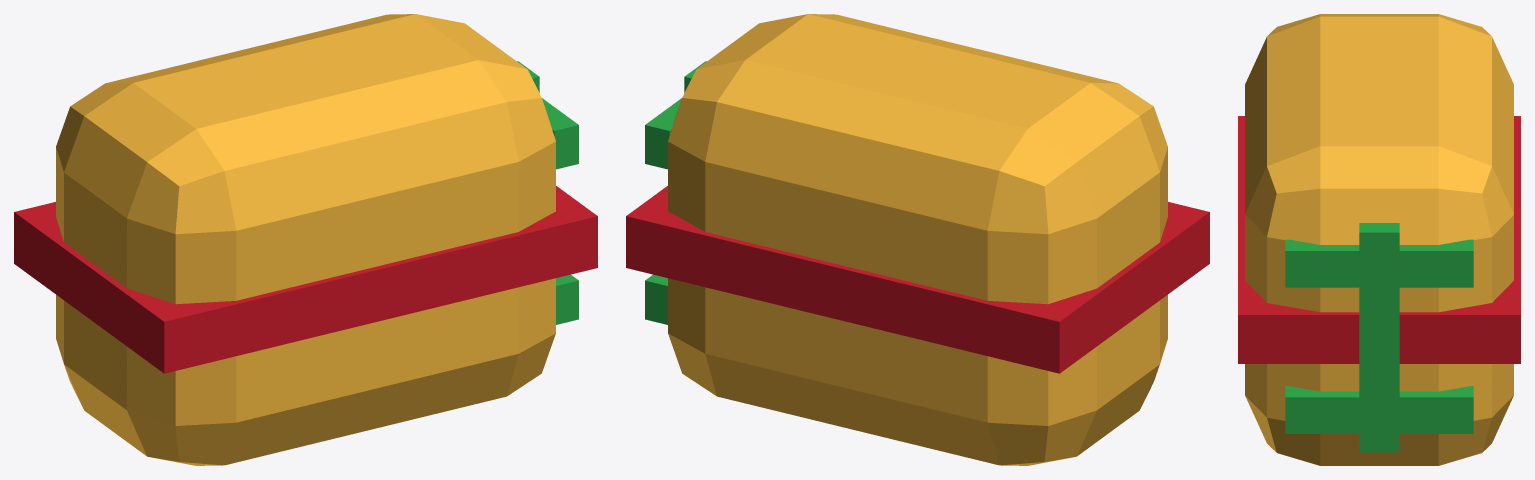
Rendered from cadeau_billet.glb.
3 renders of one model, left to right at view 1: azimuth 30°, elevation 25°; view 2: azimuth 150°, elevation 25°; view 3: azimuth 270°, elevation 25°, orthographic. The views are drawn at different scales.
Parts seen in each view (by area): view 1: p_rbox.1450, p_box.4889, p_box.4886, p_box.4888; view 2: p_rbox.1450, p_box.4889, p_box.4886, p_box.4888; view 3: p_rbox.1450, p_box.4889, p_box.4887, p_box.4886, p_box.4888.
Part boxes in pixels (left/top/right/bottom): p_rbox.1450: left=56, top=14, right=555, bottom=465; p_box.4889: left=14, top=186, right=597, bottom=373; p_box.4886: left=542, top=98, right=578, bottom=169; p_box.4888: left=556, top=274, right=578, bottom=324; p_rbox.1450: left=668, top=14, right=1167, bottom=465; p_box.4889: left=626, top=186, right=1209, bottom=373; p_box.4886: left=645, top=98, right=681, bottom=169; p_box.4888: left=645, top=274, right=667, bottom=324; p_rbox.1450: left=1245, top=14, right=1513, bottom=465; p_box.4889: left=1238, top=116, right=1520, bottom=363; p_box.4887: left=1359, top=223, right=1399, bottom=452; p_box.4886: left=1285, top=239, right=1473, bottom=287; p_box.4888: left=1285, top=386, right=1473, bottom=433.
Bounding box in the file's own units: 0.355 × 0.26 × 0.21.
